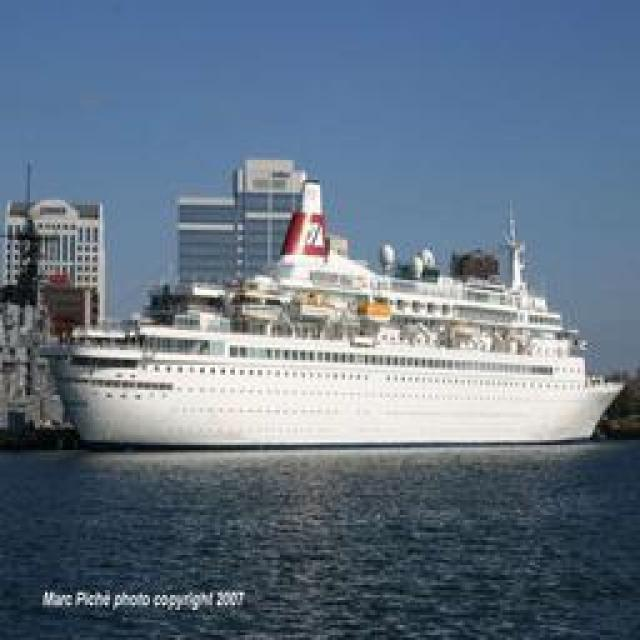CIV_Ship: (40, 172, 618, 448)
